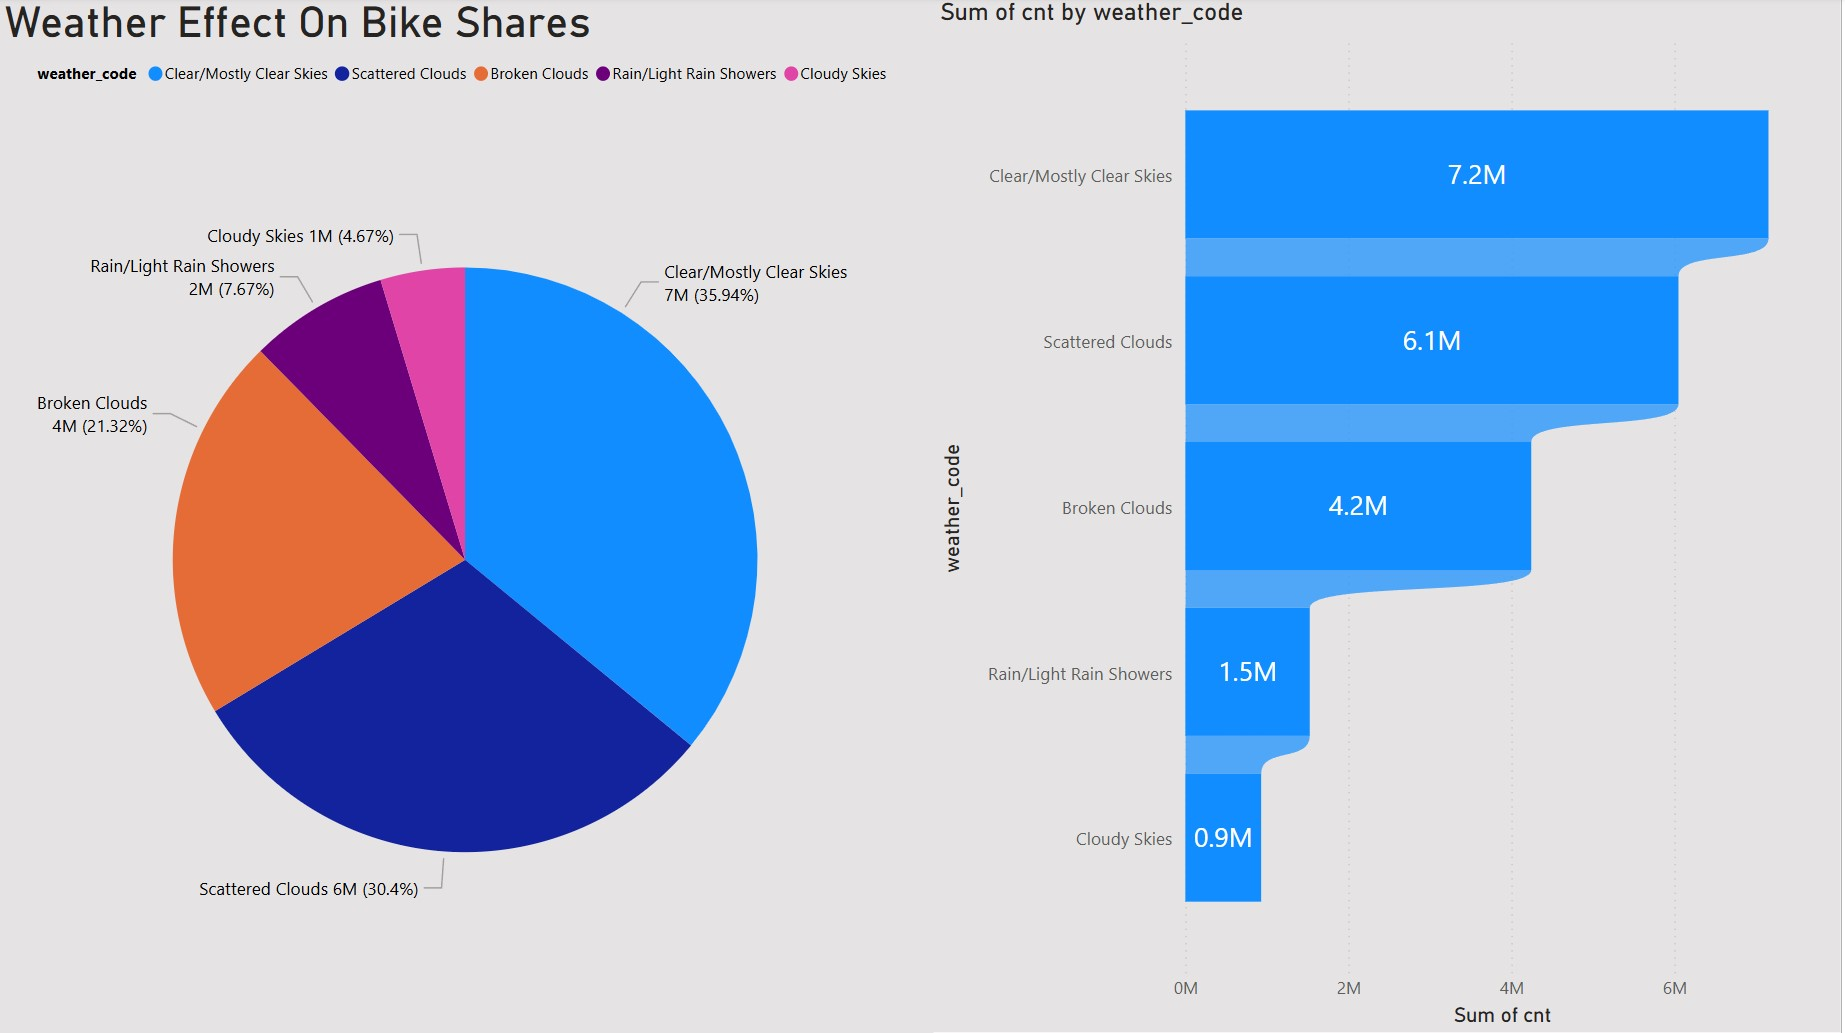

The dashboard page shown, as its layout file describes it:
{"tool":"powerbi","page":{"name":"Weather effects.","canvas":[1280,720],"ordinal":1},"visuals":[{"type":"pieChart","title":"Weather Effect On Bike Shares","fields":{"Category":["london_merged.weather_code"],"Y":["Sum(london_merged.cnt)"]},"box":[0,0,649.7,720.5],"z":0},{"type":"barChart","fields":{"Category":["london_merged.weather_code"],"Y":["Sum(london_merged.cnt)"]},"box":[649.7,0,629.9,719.5],"z":1000}]}

Visuals, with their boxes in screenshot pixels (x1, y1, x2, y2), scaled from the page's 1280x720 canvas onto the 1845x1033 screenshot:
"Weather Effect On Bike Shares" pieChart: (0, 0, 936, 1032)
barChart - london_merged.weather_code x Sum(london_merged.cnt): (936, 0, 1844, 1032)
